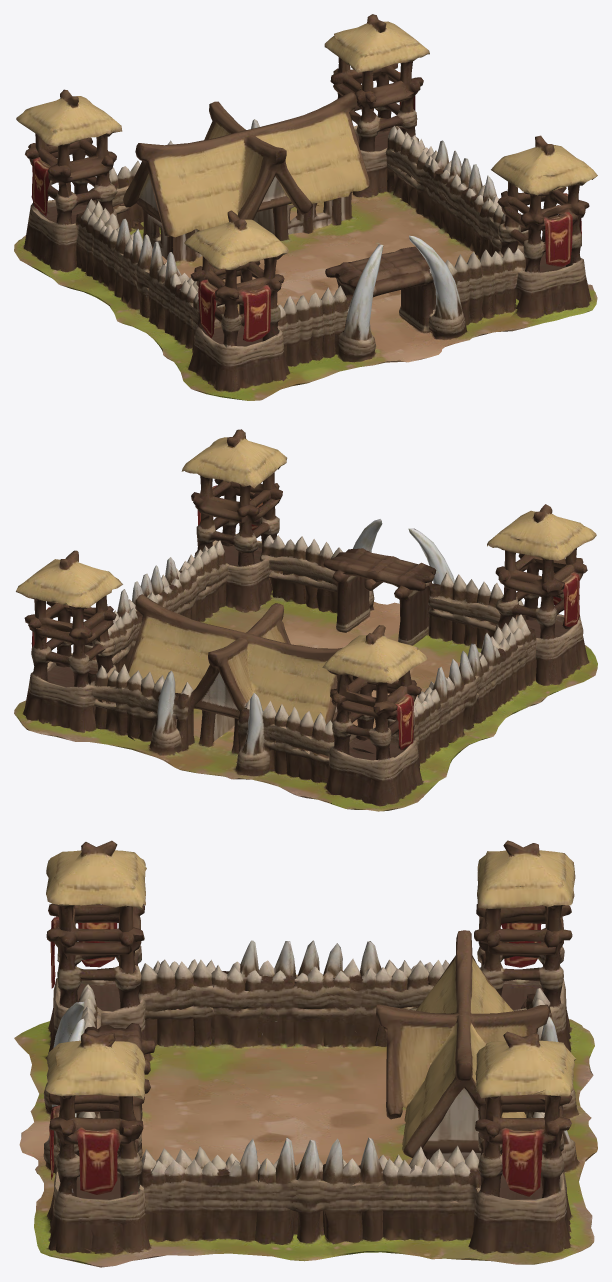
Rendered from fortress_beasts.glb.
The picture shows the model from 3 angles, top to bottom: view 1: azimuth 30°, elevation 25°; view 2: azimuth 150°, elevation 25°; view 3: azimuth 270°, elevation 25°; orthographic projection. The views are drawn at different scales.
Visible parts, largest first — view 1: world; view 2: world; view 3: world.
Part boxes in pixels (left/top/right/bottom): world: left=14, top=14, right=597, bottom=400; world: left=14, top=429, right=597, bottom=811; world: left=14, top=840, right=597, bottom=1267.
Size of the model in its own units: 0.9965 by 0.3824 by 0.972.
Materials: 1 (1 with a texture image).
